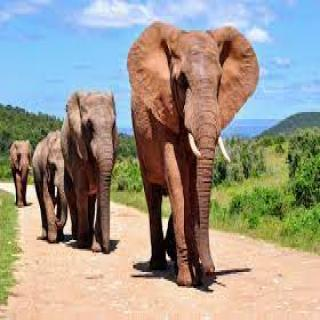Elephant: (123, 12, 260, 302), (57, 84, 125, 252), (31, 124, 73, 240), (5, 132, 34, 214)
